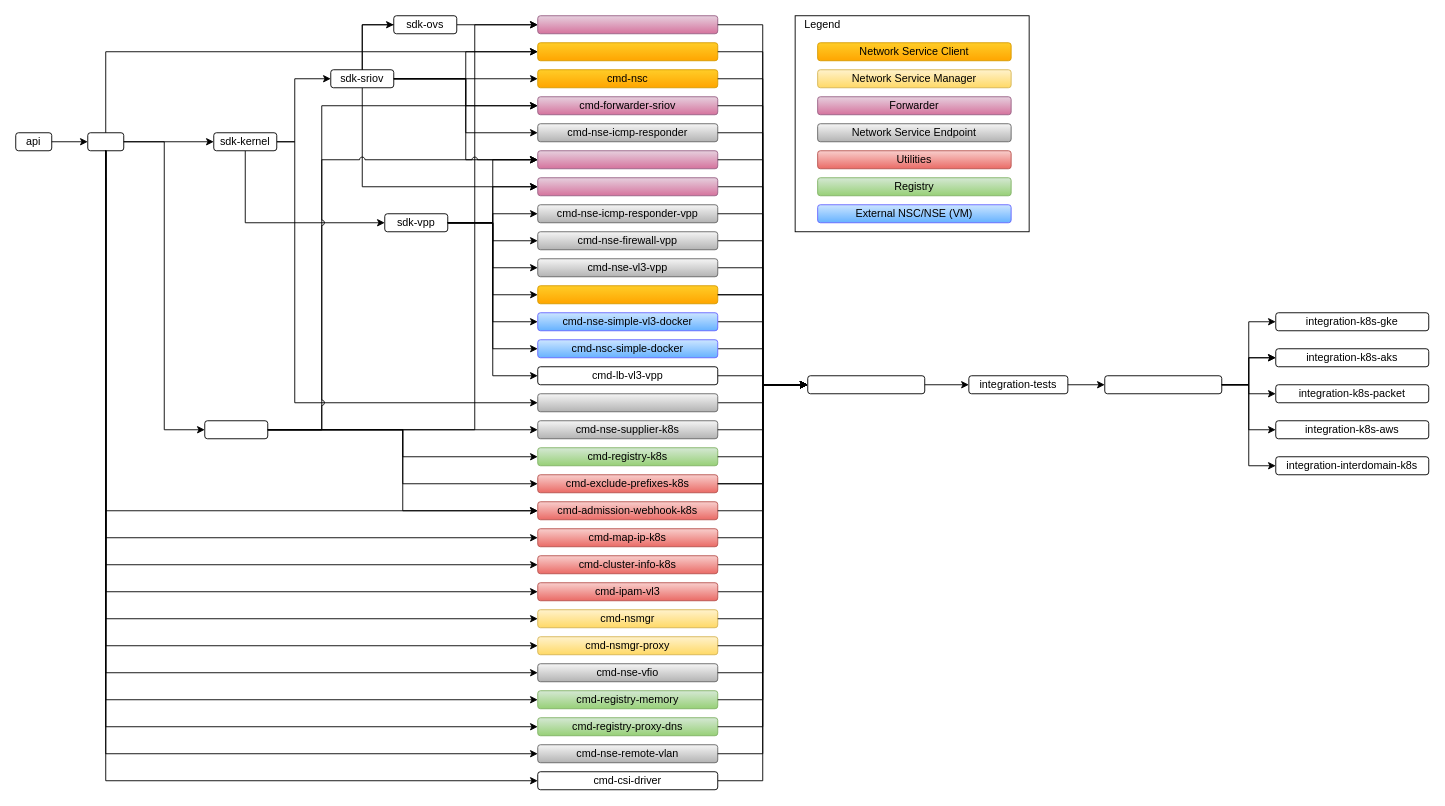
This 1445x806 diagram has some shape labels left out. Each missing label, with the box of its shape:
cmd-forwarder-ovs: (537, 15, 718, 34)
cmd-forwarder-vpp: (537, 150, 718, 169)
cmd-nsc-init: (537, 42, 718, 61)
cmd-nsc-vpp: (537, 285, 718, 304)
cmd-nse-l7-proxy: (537, 393, 718, 412)
cmd-nse-vlan-vpp: (537, 177, 718, 196)
deployment-k8s: (807, 375, 925, 394)
integration-k8s-kind: (1104, 375, 1222, 394)
sdk: (87, 132, 124, 151)
sdk-k8s: (204, 420, 268, 439)
